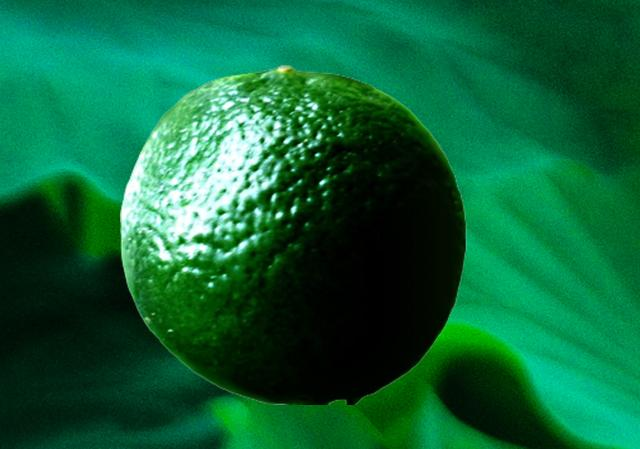calamansi: (120, 64, 465, 403)
